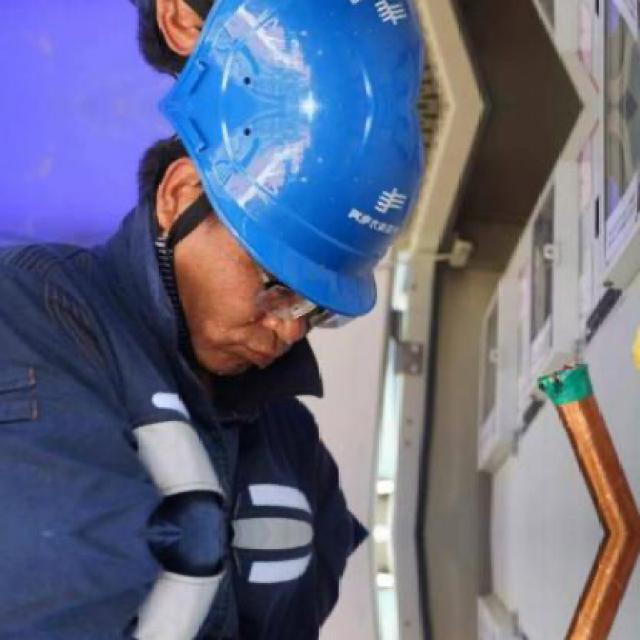helmet: (140, 111, 445, 404), (139, 0, 445, 103)
